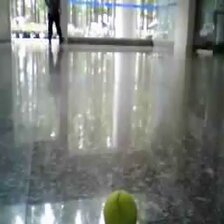tennis: (103, 189, 139, 224)
